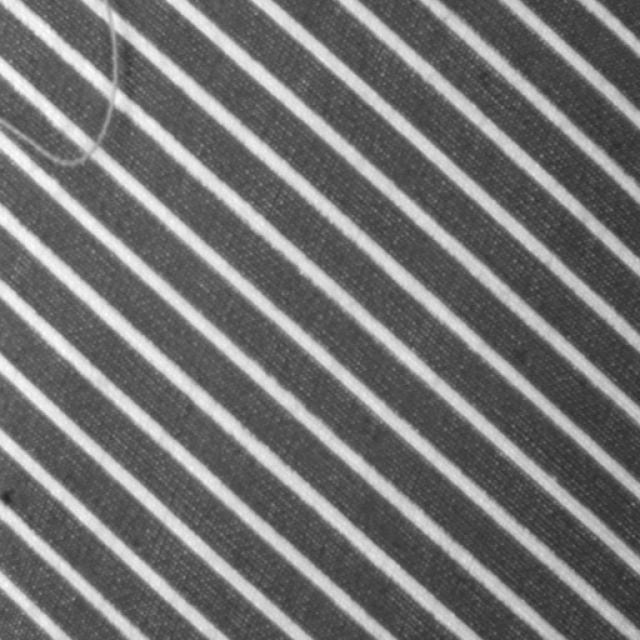Foreign-Body-Defect: (0, 0, 131, 166)
